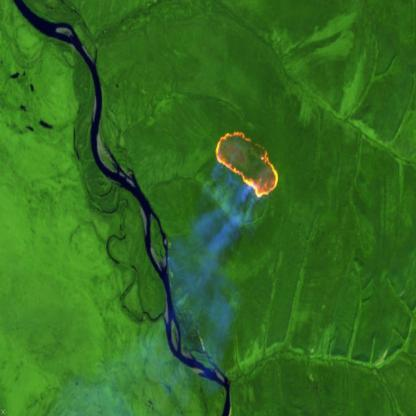fire: (214, 128, 280, 202)
